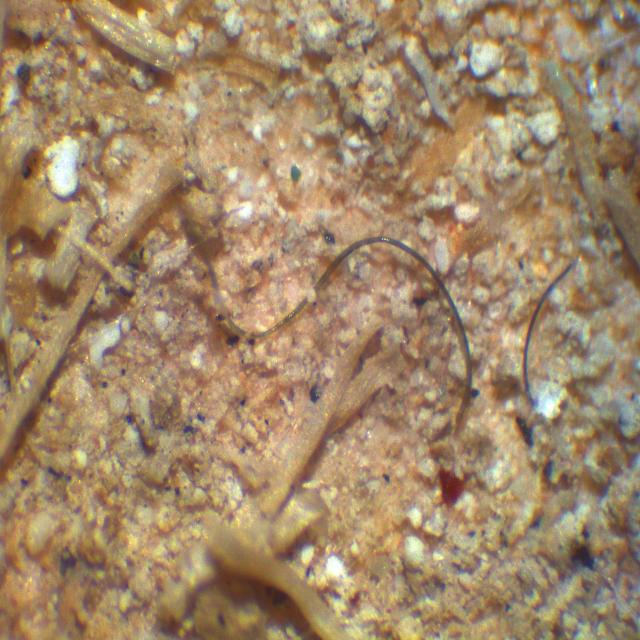microplastic: (200, 234, 474, 425), (522, 265, 573, 407)
